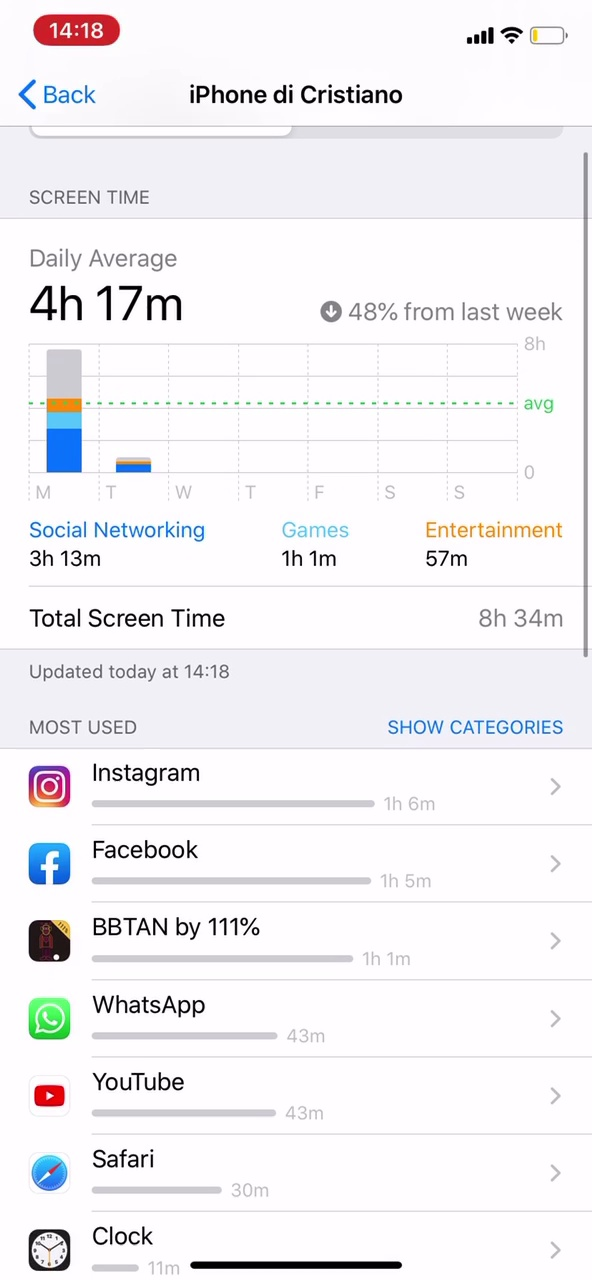use_over: (22, 516, 576, 588)
